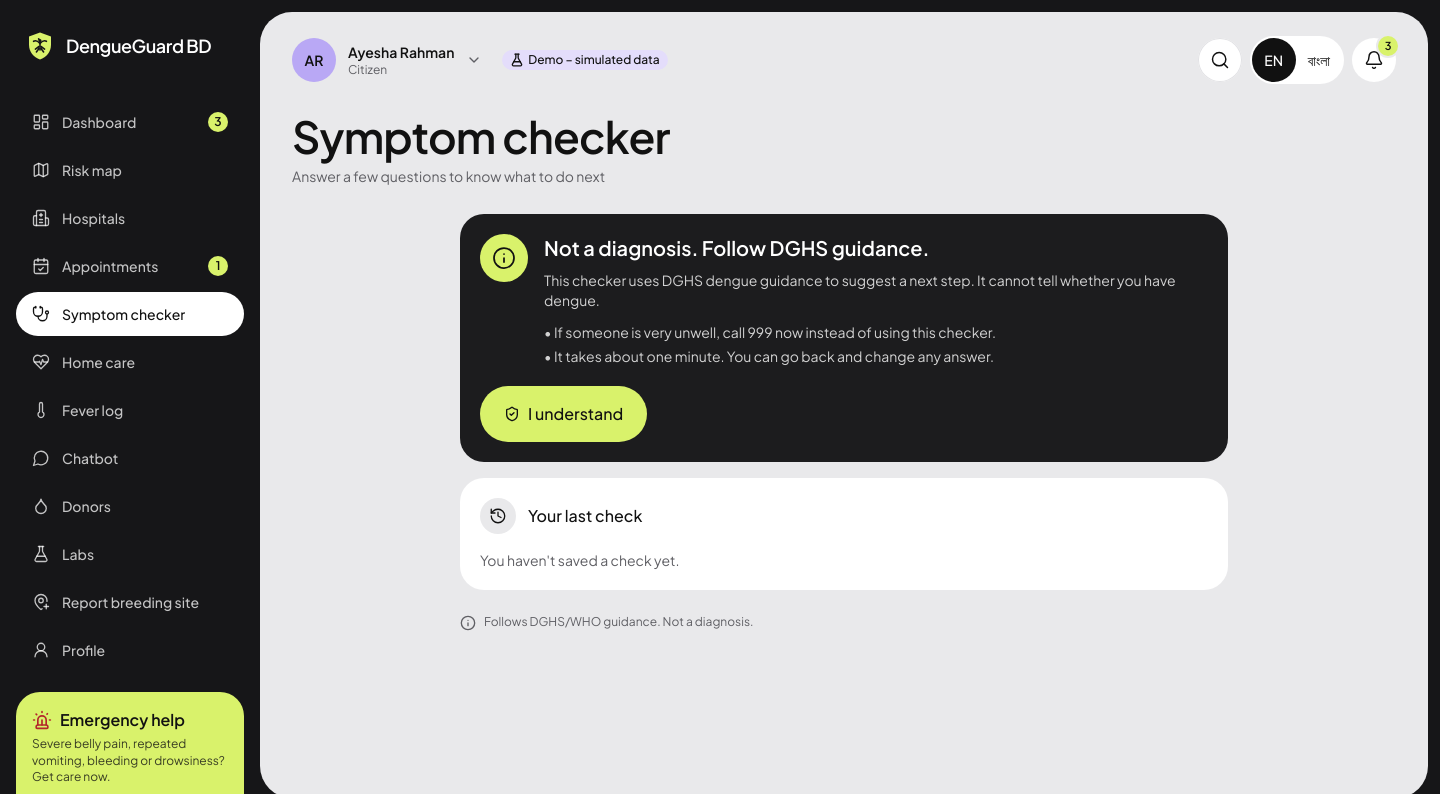
Symptom checker (/symptoms) › uses Bangla text and digits in বাংলা mode
Click the button "বাংলা" at point(1319, 60), box [1296, 38, 1342, 82]
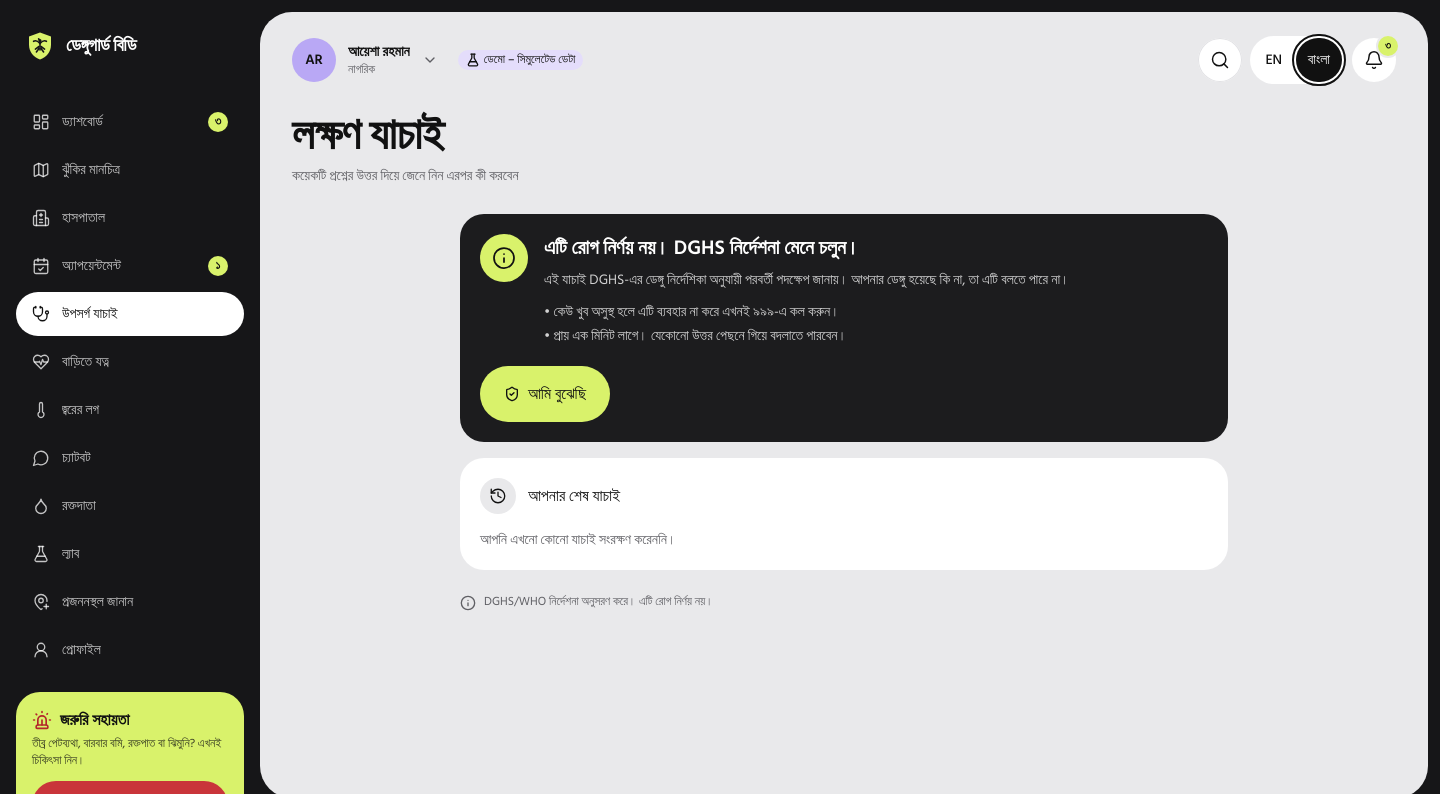
Click the button "আমি বুঝেছি" at point(545, 394), box [480, 366, 610, 422]
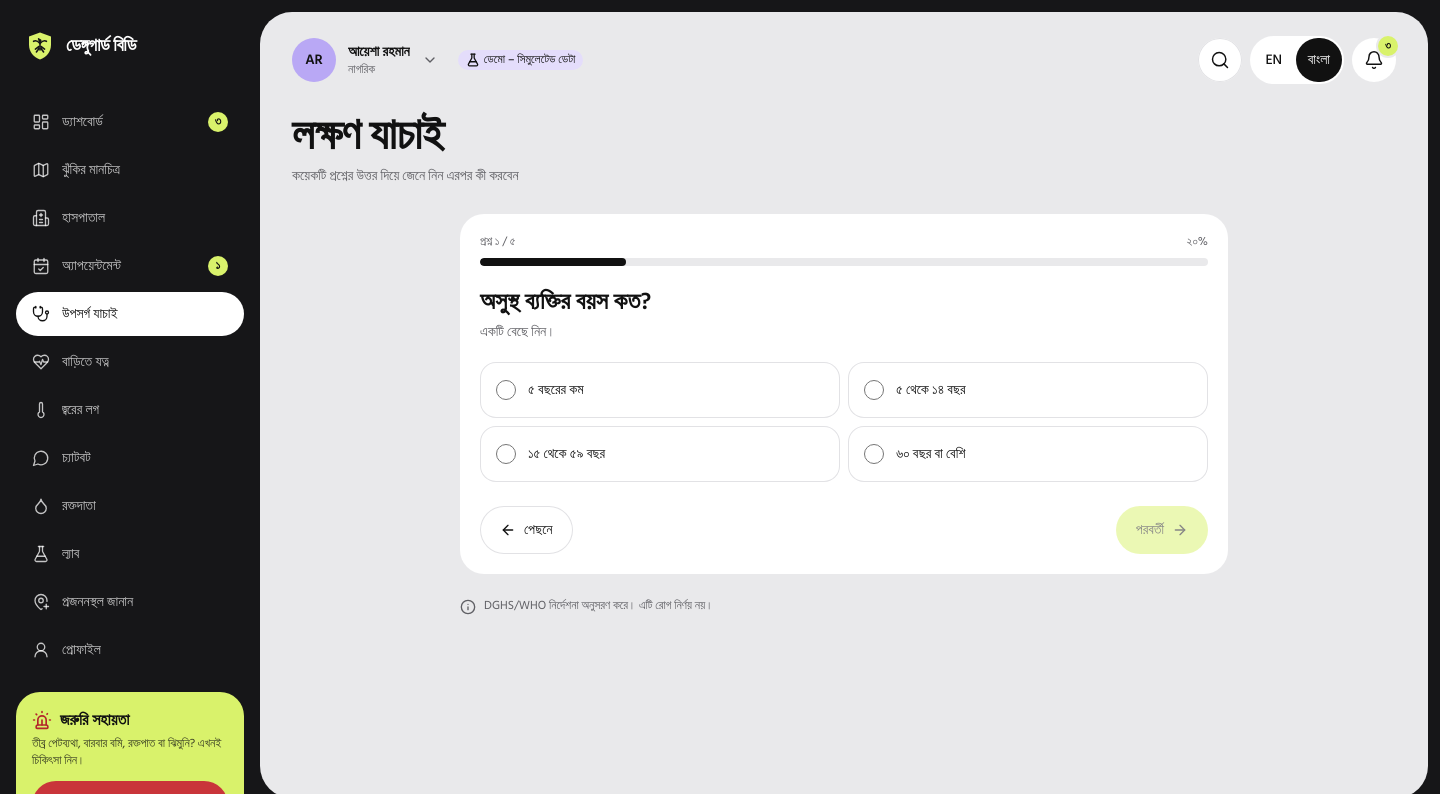
Now the text "প্রশ্ন ১ / ৫" is shown, box [480, 234, 516, 250]
Now the radio button labelled "১৫ থেকে ৫৯ বছর" is shown, box [496, 444, 516, 464]
